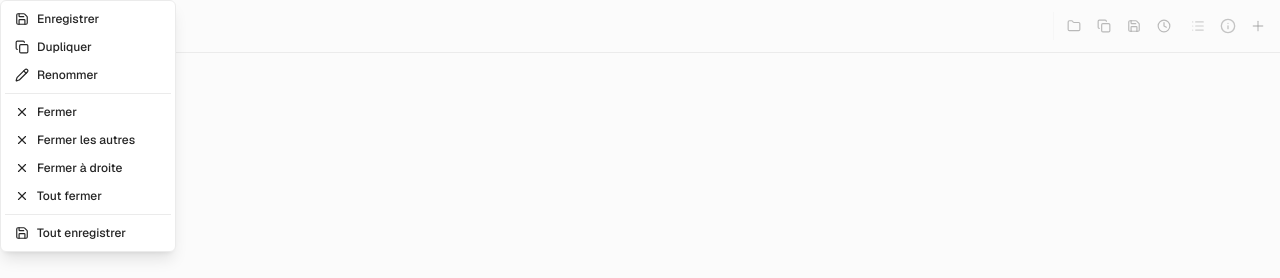
Test: RequestTabBar — request rename › exposes a Rename action in the context menu that triggers inline edit
Later steps or results of the test are not shown.
Click the button "Renommer" at (88, 75), box [5,61,171,89]
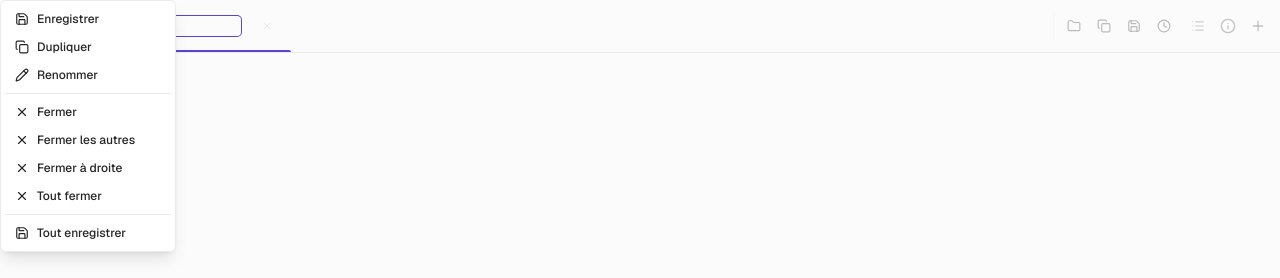
Expected: the field showing "Old Name" is shown, [42,16,241,36]
